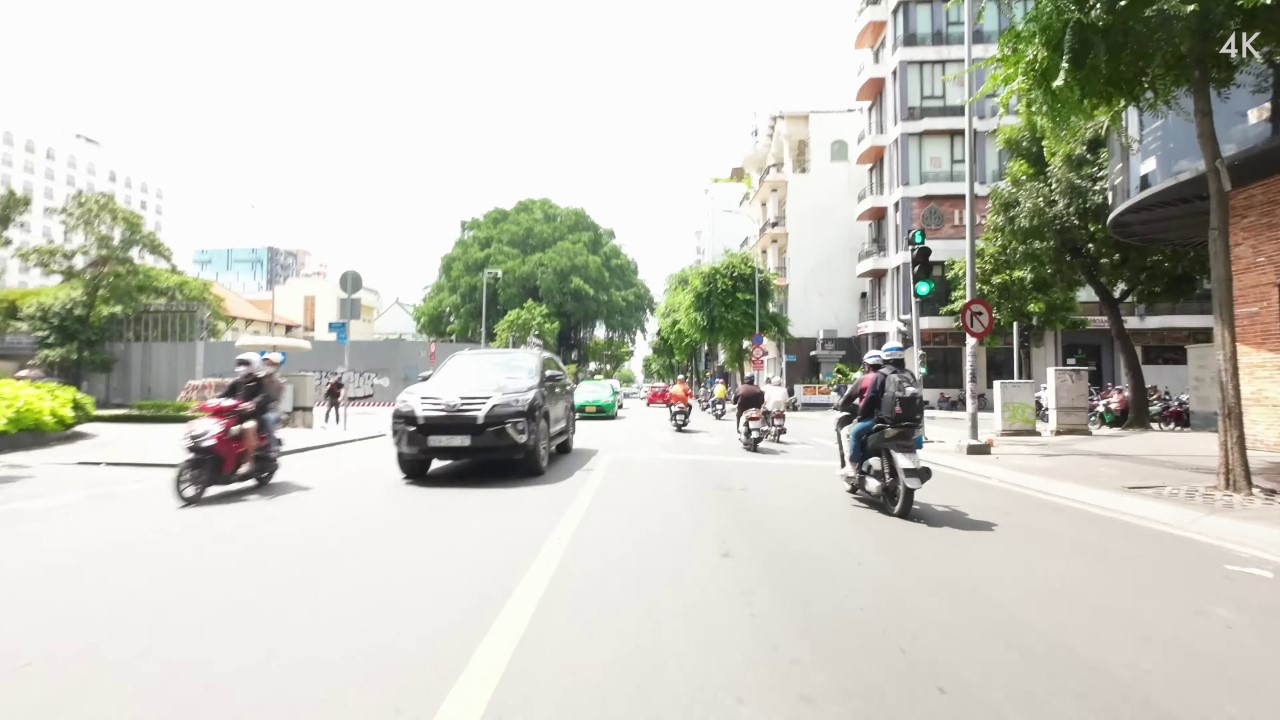cam_re_phai: (960, 297, 994, 340)
